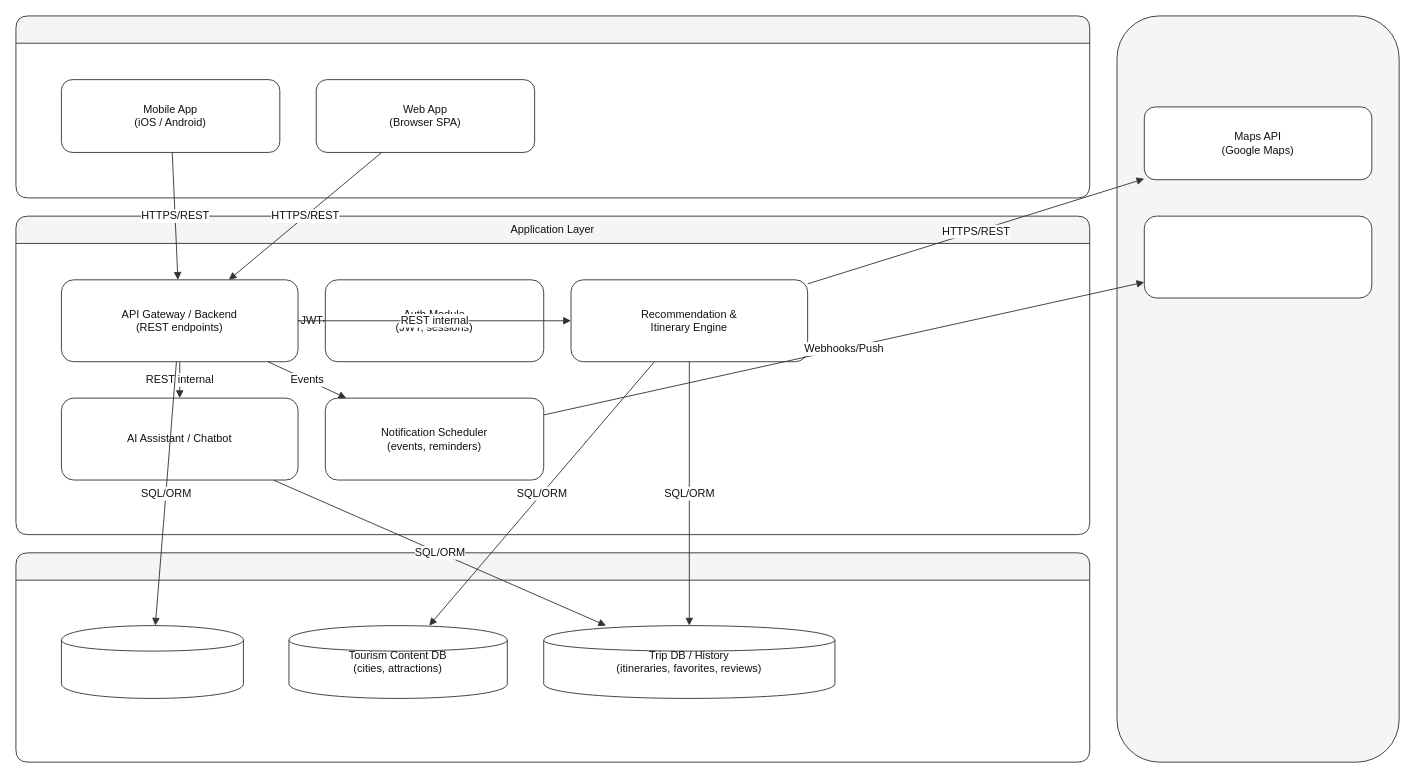
Image size: 1415x778. Some labels were removed from this diagram. The shapes that lost their labels are listed below. From the top down, each one's box as (x1, y1, x2, y2) in pixels, then its label:
(15, 15, 1090, 198): Presentation Layer
(1143, 215, 1372, 298): Push Notification Service (FCM / APNS)
(1116, 15, 1399, 762): External Services
(61, 625, 243, 698): User DB
(15, 552, 1090, 762): Data Layer
